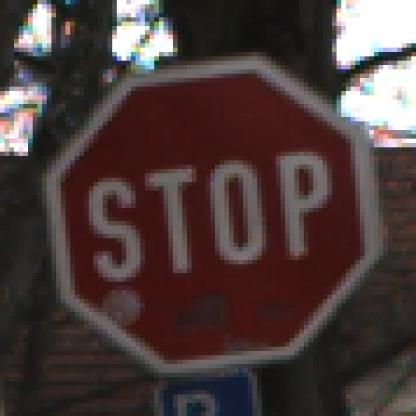stop: (47, 60, 390, 369)
